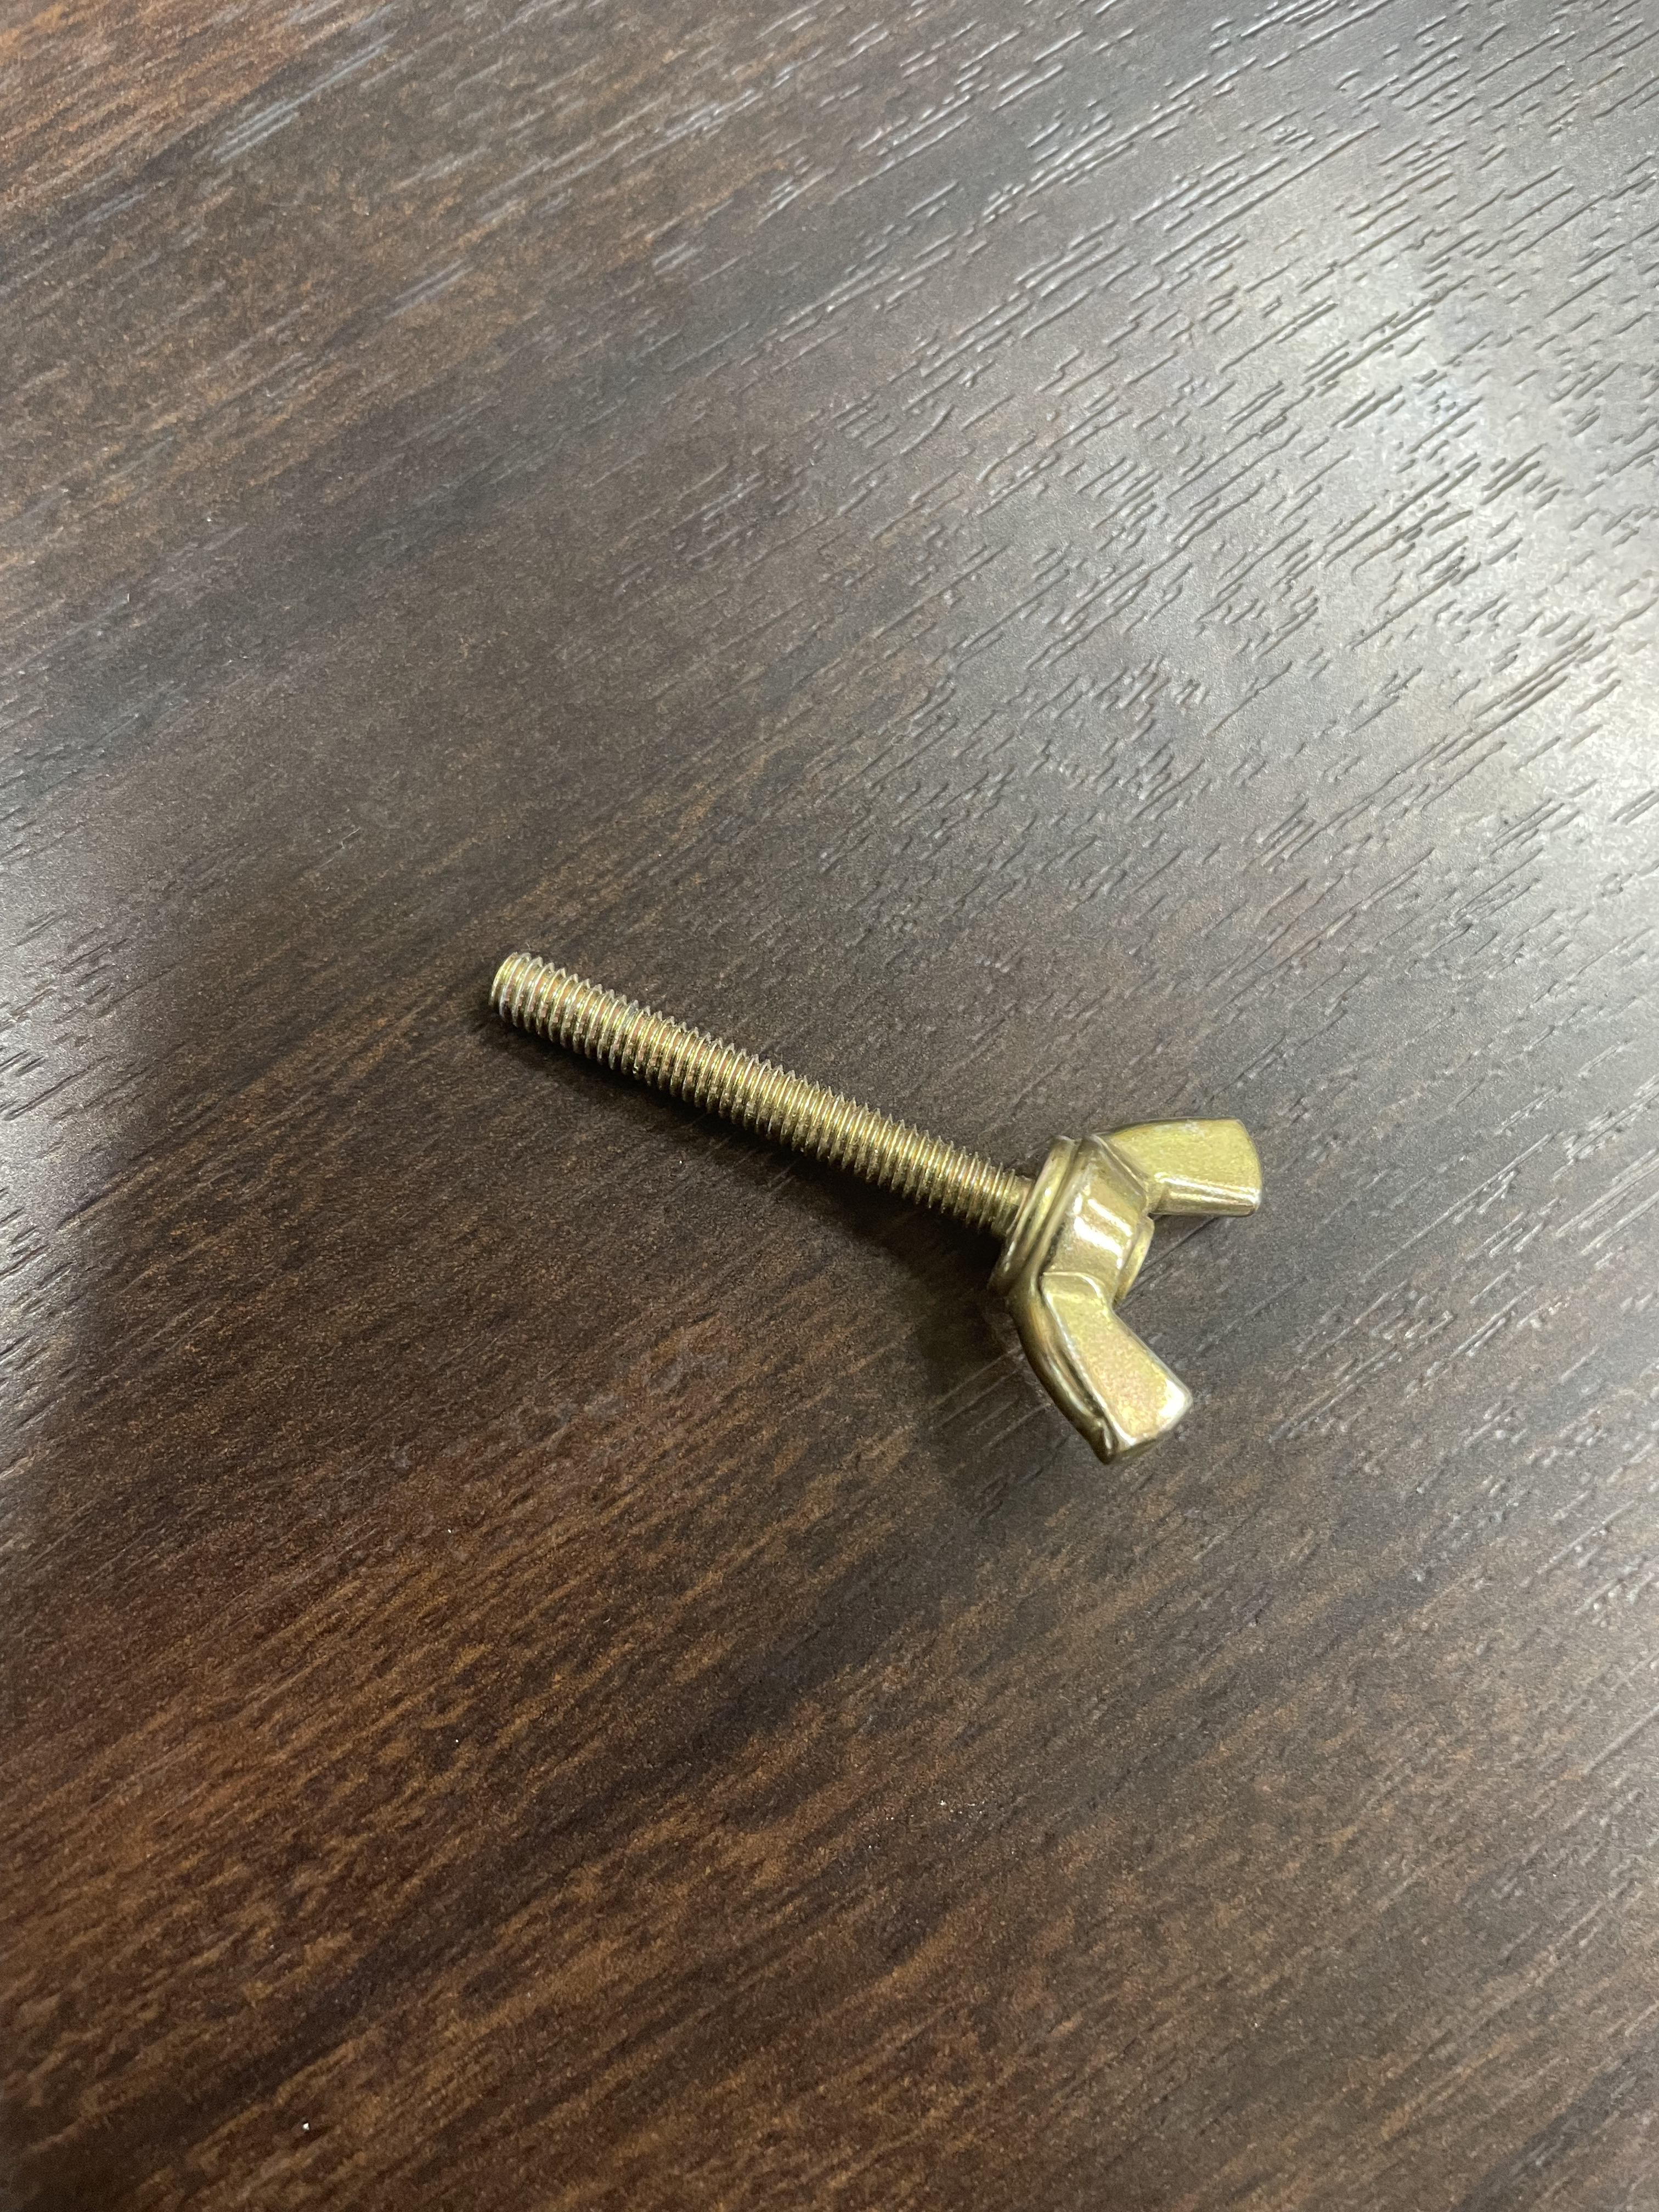screw0: (482, 943, 1269, 1465)
